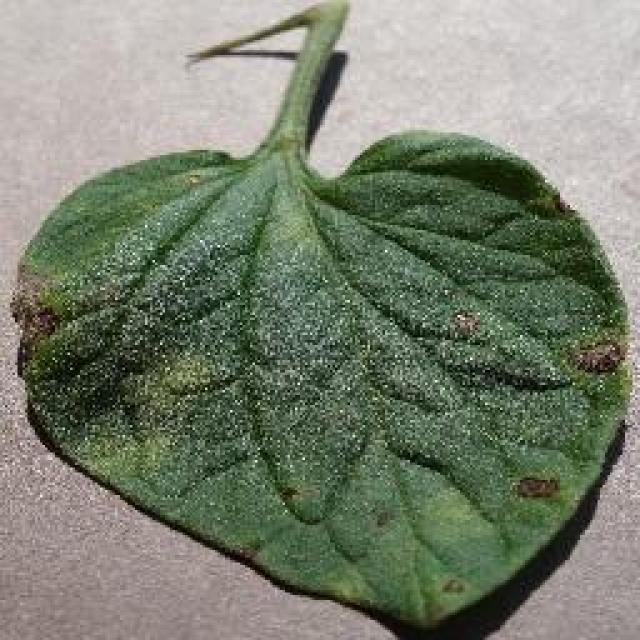Tomato___Early_blight: (9, 2, 630, 634)
